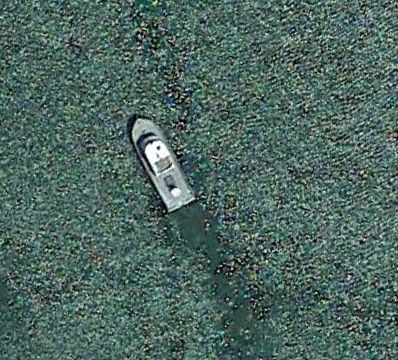boat: (128, 114, 198, 215)
